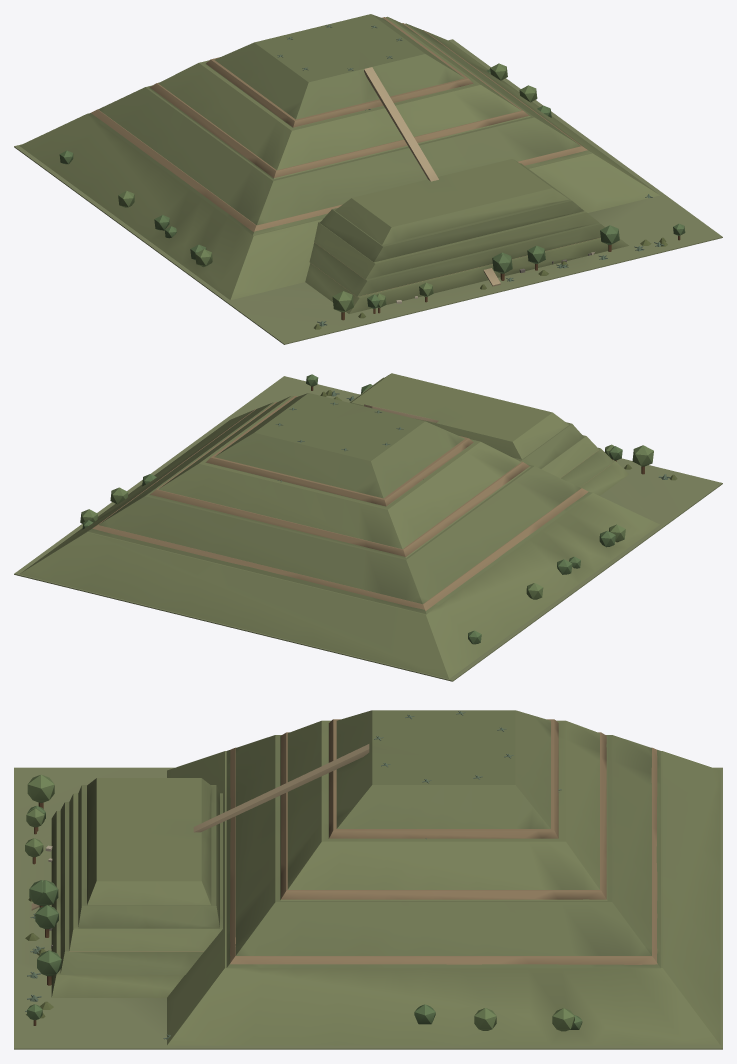
The model's file is pyramid-of-the-moon-1500.glb.
3 views of the same model, one above another, from view 1: azimuth 30°, elevation 25°; view 2: azimuth 150°, elevation 25°; view 3: azimuth 270°, elevation 25° (orthographic). The views are drawn at different scales.
Visible parts, largest first — view 1: p1_pyramid, p0_ground, p2_growth; view 2: p1_pyramid, p0_ground, p2_growth; view 3: p1_pyramid, p0_ground, p2_growth.
Boxes of the visible parts, bbox=[...] form: p1_pyramid: bbox=[19, 14, 659, 313]; p0_ground: bbox=[14, 39, 722, 344]; p2_growth: bbox=[59, 25, 685, 329]; p1_pyramid: bbox=[19, 373, 659, 678]; p0_ground: bbox=[14, 376, 722, 681]; p2_growth: bbox=[80, 374, 677, 644]; p1_pyramid: bbox=[31, 710, 720, 1045]; p0_ground: bbox=[14, 767, 722, 1049]; p2_growth: bbox=[25, 711, 582, 1039].
Bounding box in the file's own units: 150 × 40.87 × 160.
